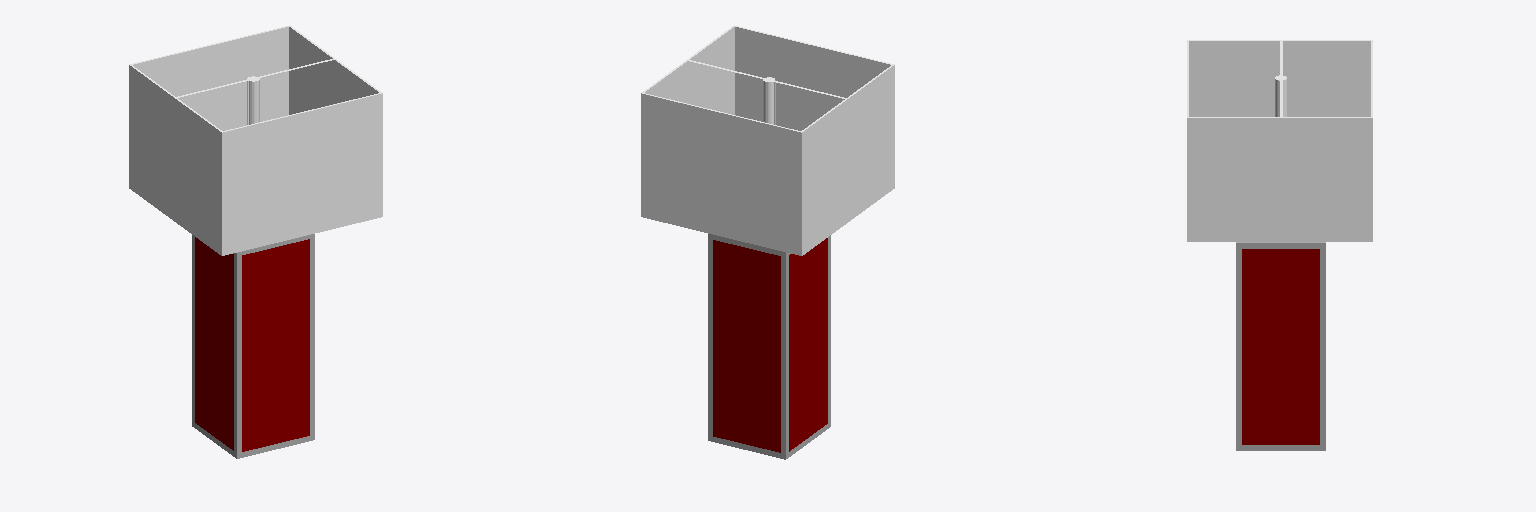
The model's file is bedRedLamp.obj.
3 views of the same model, side by side, from view 1: azimuth 30°, elevation 25°; view 2: azimuth 150°, elevation 25°; view 3: azimuth 270°, elevation 25° (orthographic).
Visible parts, largest first — view 1: Mesh1 Group2 Group1 bed2Lamp1 Model, Mesh2 Group1 bed2Lamp1 Model; view 2: Mesh1 Group2 Group1 bed2Lamp1 Model, Mesh2 Group1 bed2Lamp1 Model; view 3: Mesh1 Group2 Group1 bed2Lamp1 Model, Mesh2 Group1 bed2Lamp1 Model.
Part boxes in pixels (bbox=[...]): Mesh1 Group2 Group1 bed2Lamp1 Model: bbox=[129, 25, 382, 255]; Mesh2 Group1 bed2Lamp1 Model: bbox=[192, 234, 314, 458]; Mesh1 Group2 Group1 bed2Lamp1 Model: bbox=[641, 25, 894, 255]; Mesh2 Group1 bed2Lamp1 Model: bbox=[708, 233, 830, 459]; Mesh1 Group2 Group1 bed2Lamp1 Model: bbox=[1187, 40, 1372, 241]; Mesh2 Group1 bed2Lamp1 Model: bbox=[1236, 242, 1325, 450].
Size of the model in its own units: 0.381 by 0.8001 by 0.381.